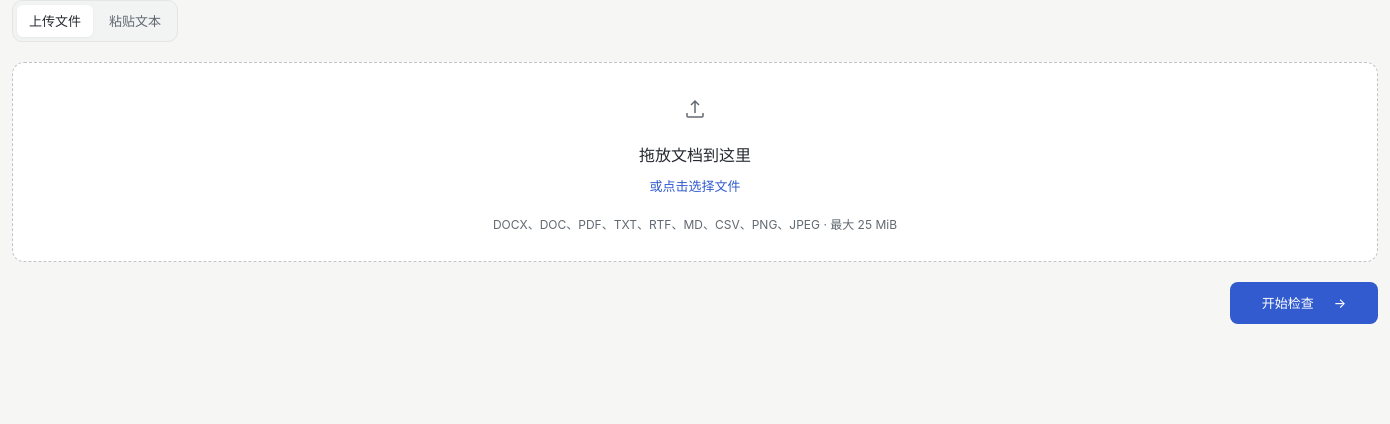
Test: SourceInputPanel › preserves the text draft while switching input modes
Click the button "粘贴文本" at {"x": 135, "y": 21}, box [97,5,173,37]
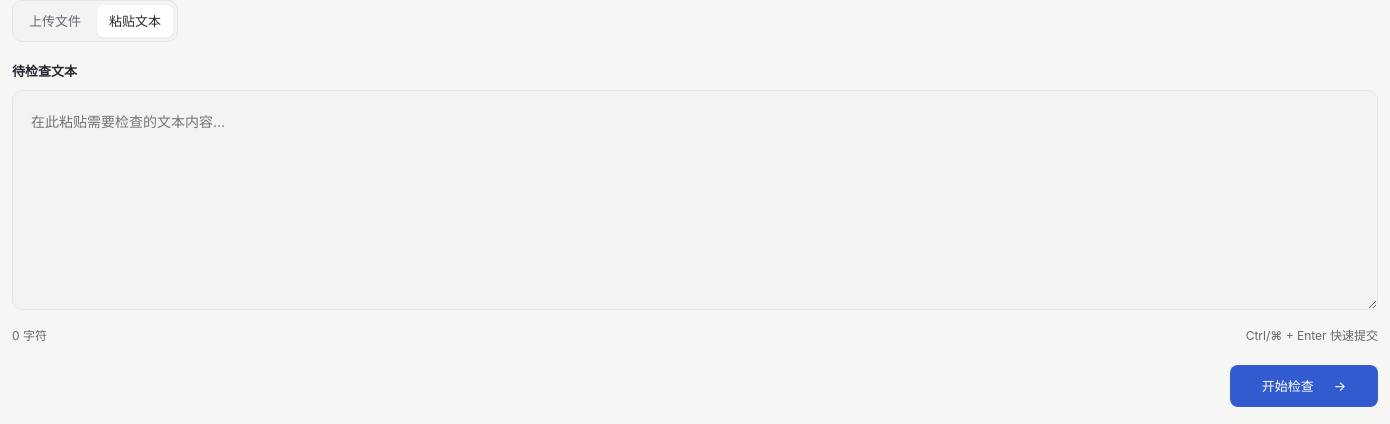
Type "草稿" into the text box labelled "待检查文本" at {"x": 695, "y": 200}, box [12,90,1378,310]
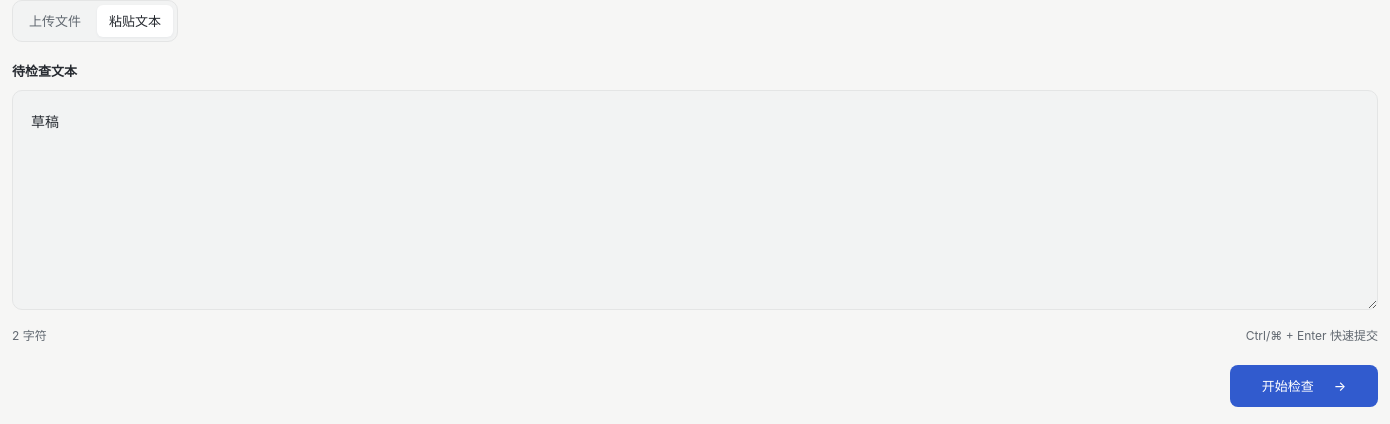
Click the button "上传文件" at {"x": 55, "y": 21}, box [17,5,93,37]
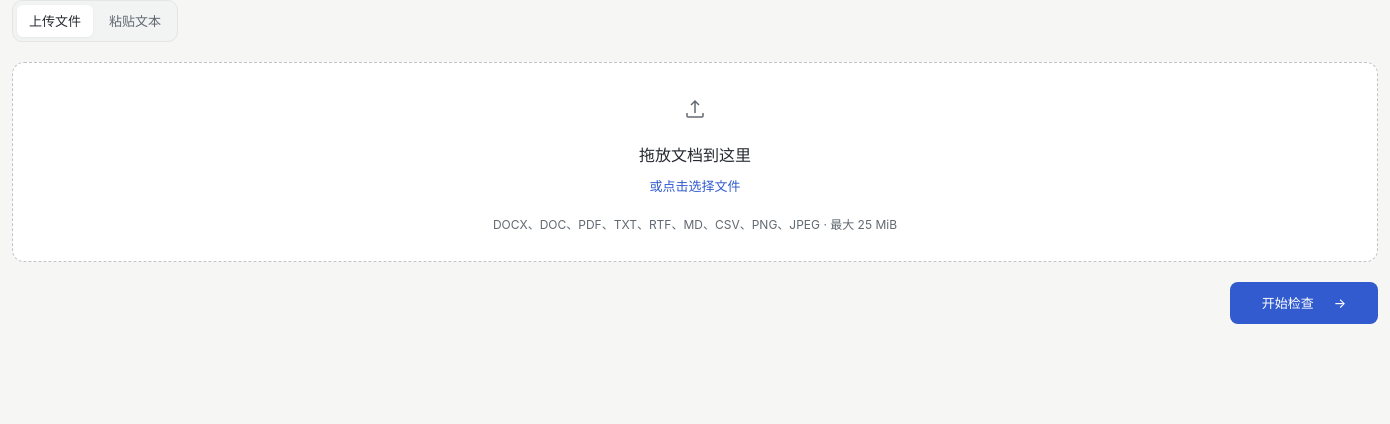
Click the button "粘贴文本" at {"x": 135, "y": 21}, box [97,5,173,37]
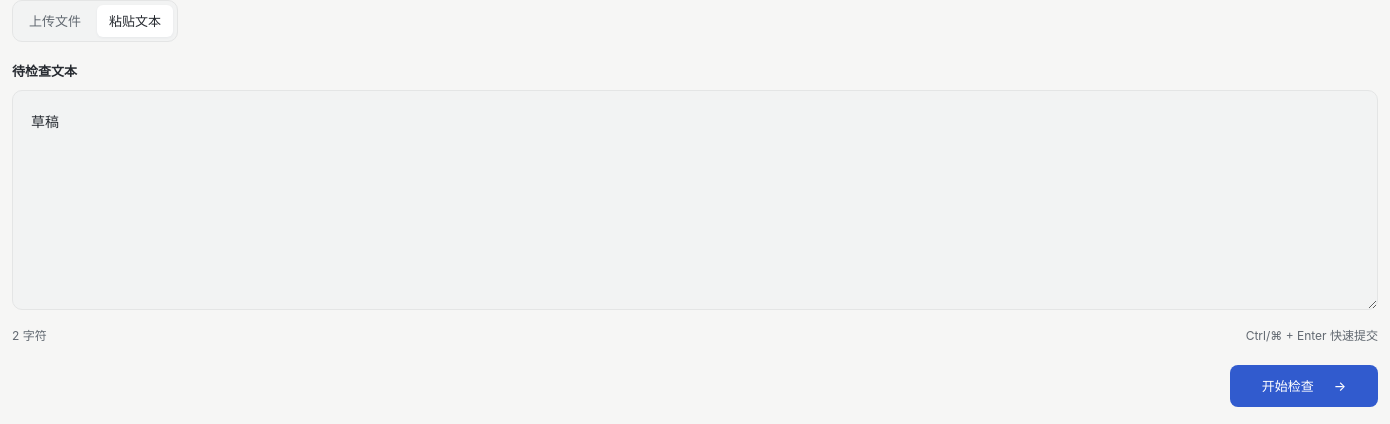
Result: the text box labelled "待检查文本" holds "草稿" at [12,90,1378,310]
